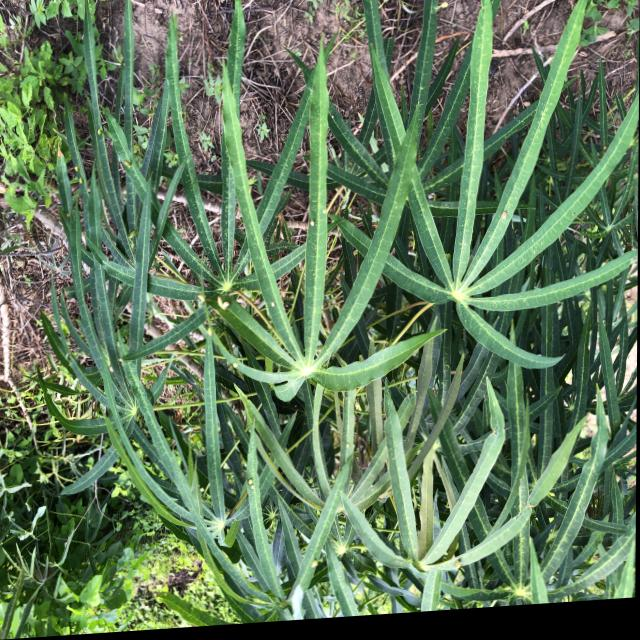Mosca: (115, 148, 146, 172), (209, 292, 235, 320), (495, 198, 518, 226), (444, 430, 474, 450), (123, 228, 152, 247), (525, 426, 544, 453), (266, 293, 285, 320), (246, 470, 267, 492), (302, 210, 326, 229)
